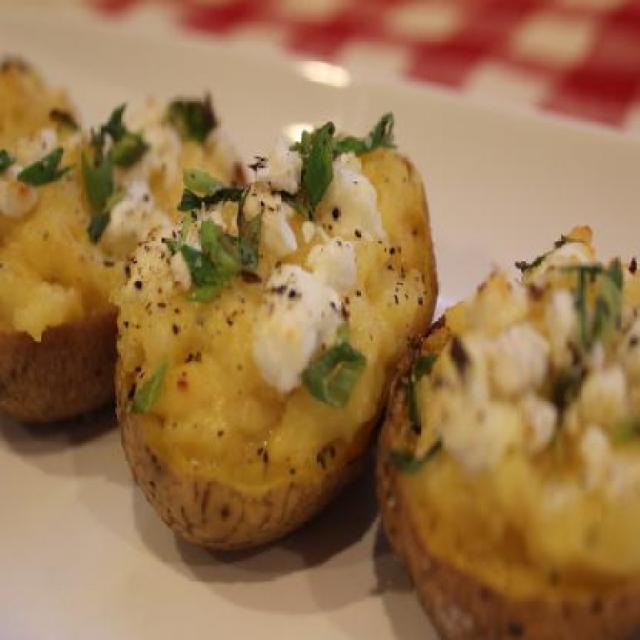Potato: (92, 131, 438, 574), (374, 222, 640, 640), (0, 89, 248, 420), (0, 57, 69, 148)
